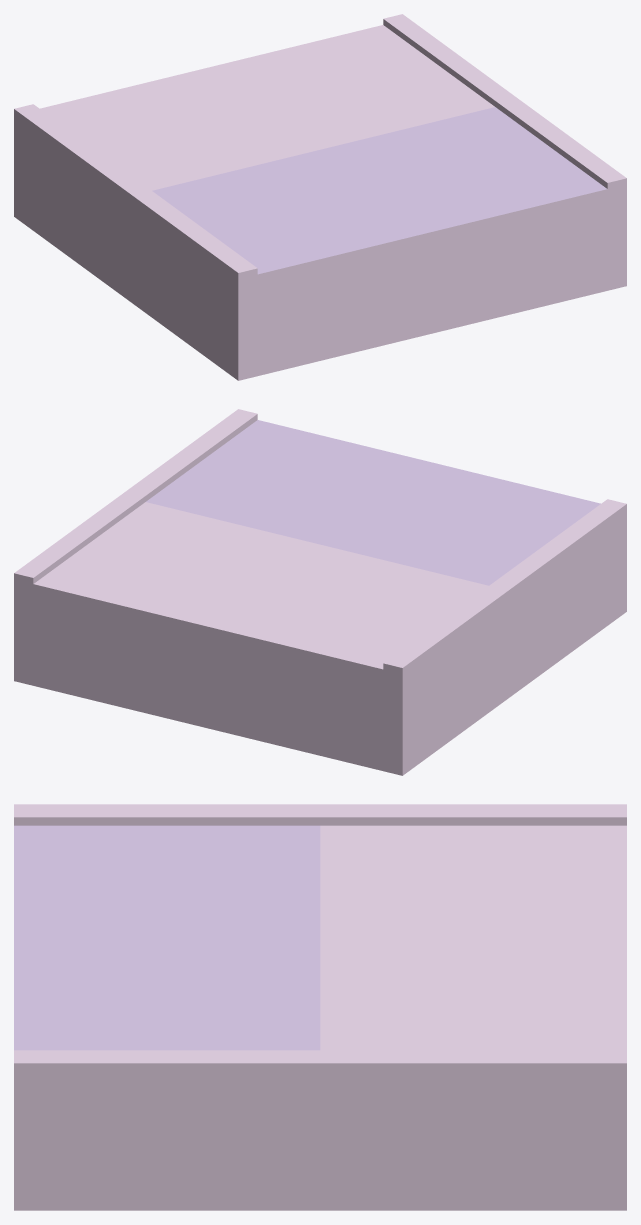
File: road_light purple_1.fbx
3 renders of one model, top to bottom at view 1: azimuth 30°, elevation 25°; view 2: azimuth 150°, elevation 25°; view 3: azimuth 270°, elevation 25°, orthographic. The views are drawn at different scales.
Visible parts, largest first — view 1: road_light purple_1; view 2: road_light purple_1; view 3: road_light purple_1.
Part boxes in pixels (x1,y1,x2,y2): road_light purple_1: [14, 14, 626, 380]; road_light purple_1: [14, 409, 626, 775]; road_light purple_1: [14, 804, 626, 1210].
Size of the model in its own units: 2 by 0.5304 by 2.
